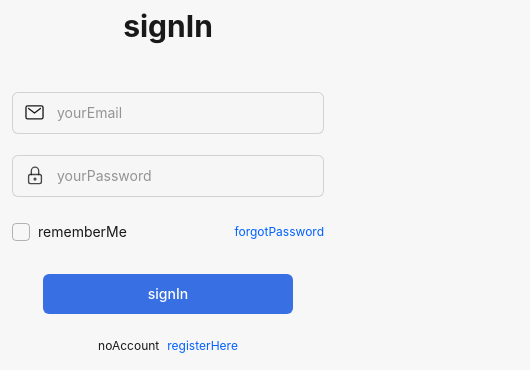
Test case: LoginForm › shows validation errors when submitting empty form
The width and height of the screenshot is (530, 370).
Click the button "signIn" at (168,294), box [43,274,293,314]
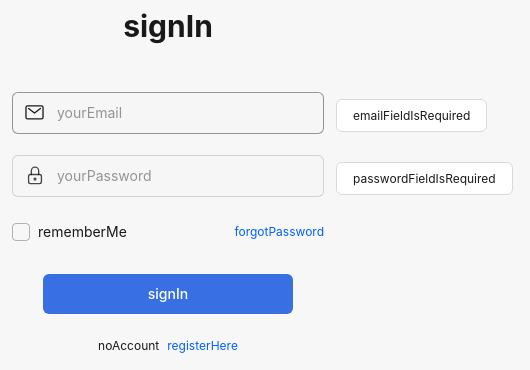
Expected: the text "emailFieldIsRequired" is shown, [336,99,487,132]
